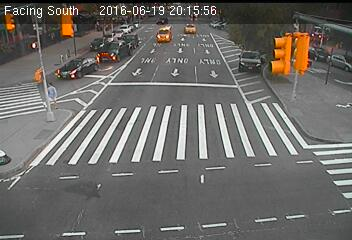neg: (91, 39, 118, 74), (157, 53, 182, 86), (44, 39, 63, 65)
pos: (38, 79, 61, 110)
